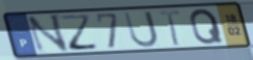7: (93, 11, 121, 50)
N: (24, 12, 71, 55)
Q: (188, 7, 226, 46)
T: (156, 8, 182, 48)
U: (122, 10, 161, 49)
Z: (58, 12, 101, 52)
